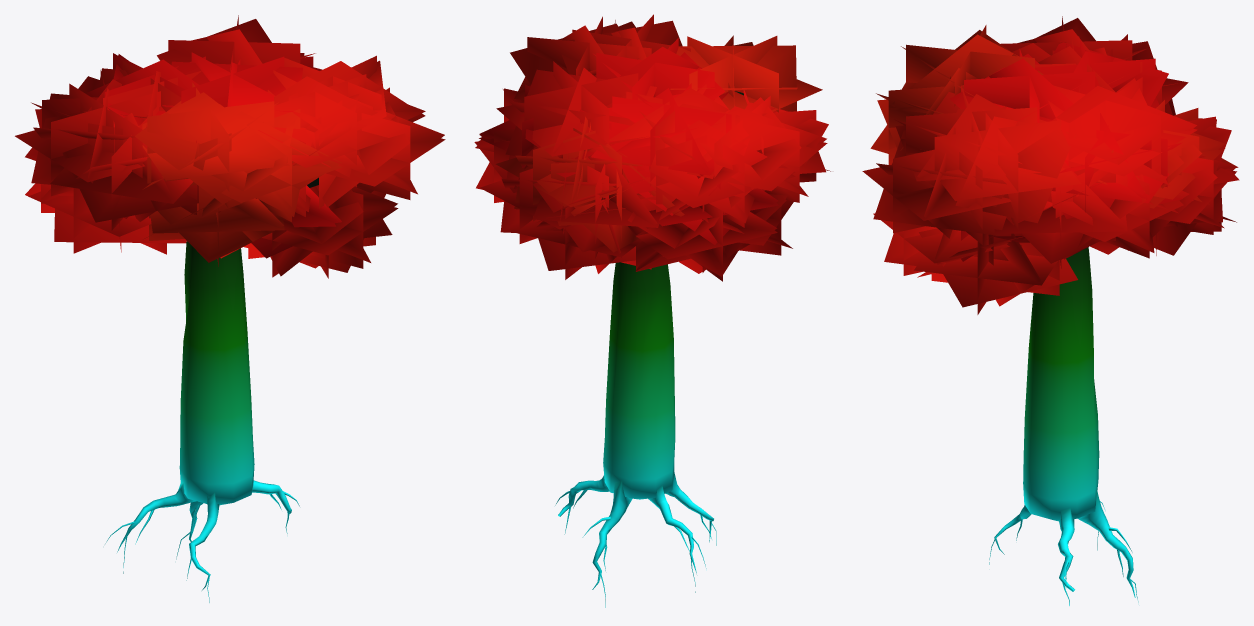
File: Baobab1.fbx
3 views of the same model, side by side, from view 1: azimuth 30°, elevation 25°; view 2: azimuth 150°, elevation 25°; view 3: azimuth 270°, elevation 25° (orthographic). The views are drawn at different scales.
Visible parts, largest first — view 1: Baobab1_LOD0; view 2: Baobab1_LOD0; view 3: Baobab1_LOD0.
Boxes of the visible parts, x1,y1,x2,y2 form: Baobab1_LOD0: (15, 15, 445, 602); Baobab1_LOD0: (474, 14, 830, 607); Baobab1_LOD0: (862, 16, 1239, 605).
Size of what is drawn, in the model's own units: 782 by 1196 by 746.
